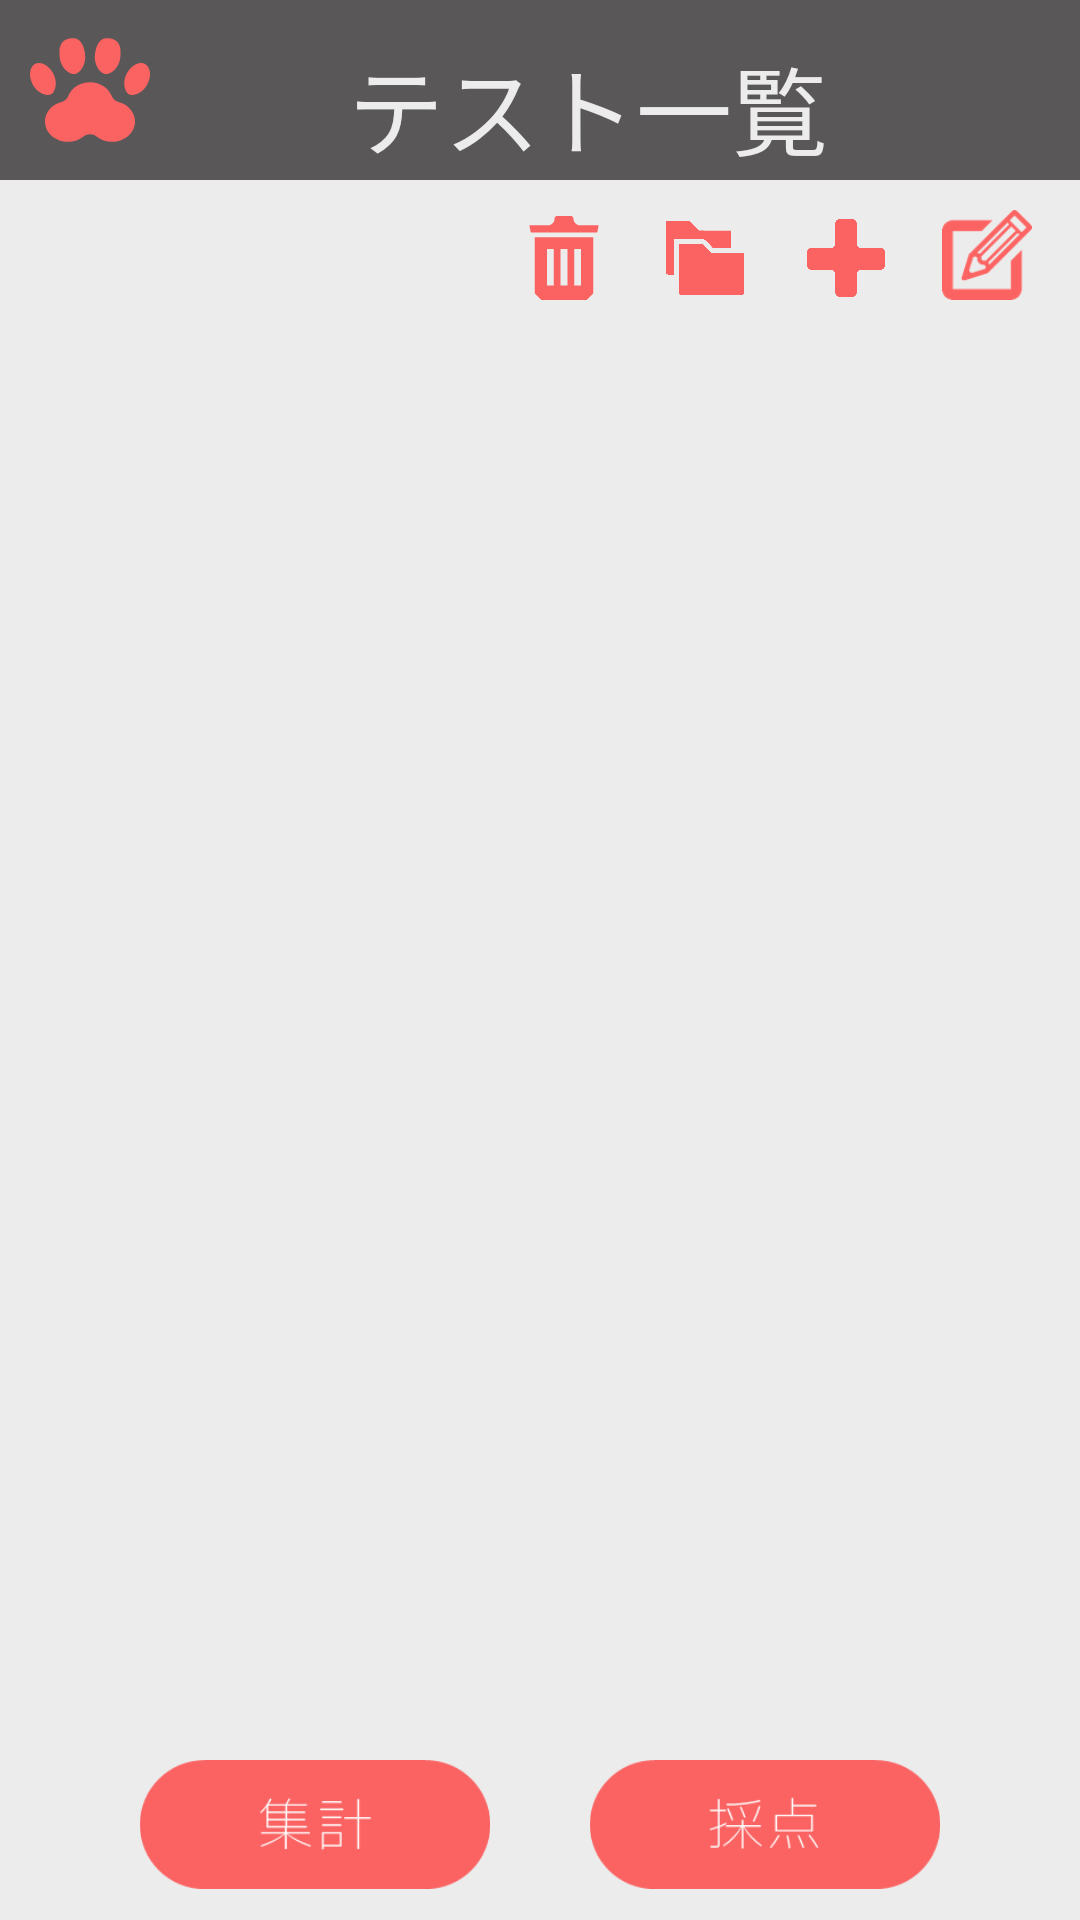

Point at icon controls on the screen. Image size 1080 × 1920, points as point (x, y).
edit: point (987, 255)
sinki: point (846, 258)
trash: point (564, 258)
